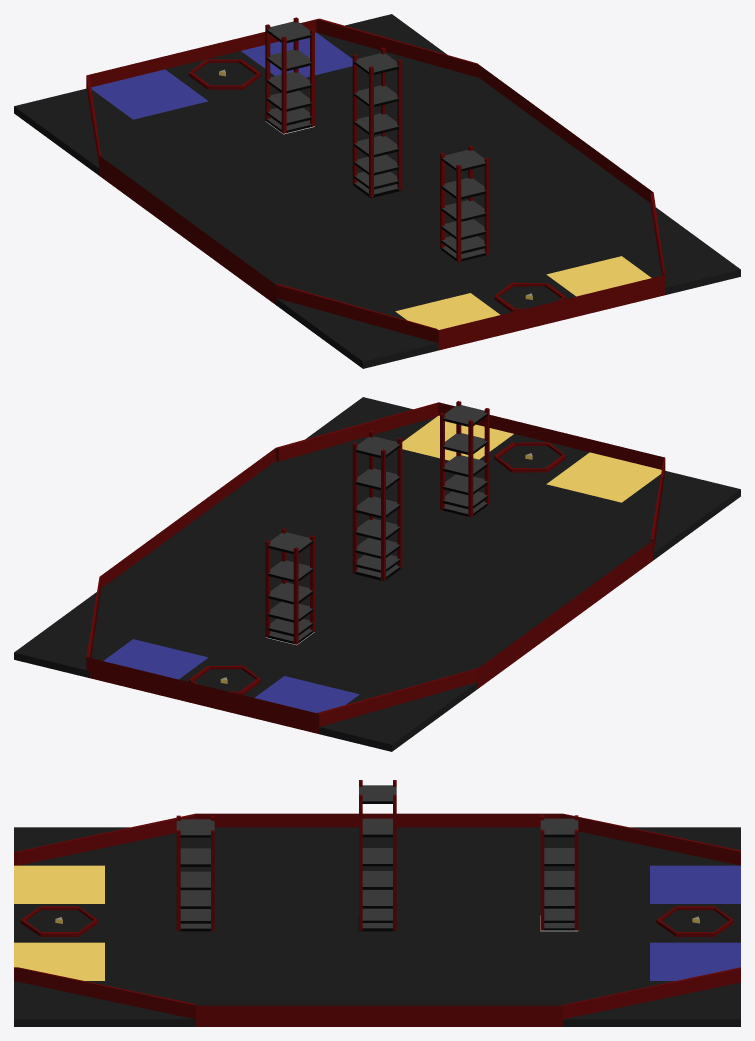
The model's file is playing-field.glb.
3 renders of one model, top to bottom at view 1: azimuth 30°, elevation 25°; view 2: azimuth 150°, elevation 25°; view 3: azimuth 270°, elevation 25°, orthographic. The views are drawn at different scales.
Parts seen in each view (by area): view 1: Sketchup; view 2: Sketchup; view 3: Sketchup, Sketchup.006.
Part boxes in pixels (x1,y1,x2,y2): Sketchup: (14,14,740,368); Sketchup: (14,397,740,751); Sketchup: (14,780,740,1026); Sketchup.006: (359,785,396,801).
Size of the model in its own units: 6.1 by 2.11 by 9.75.
